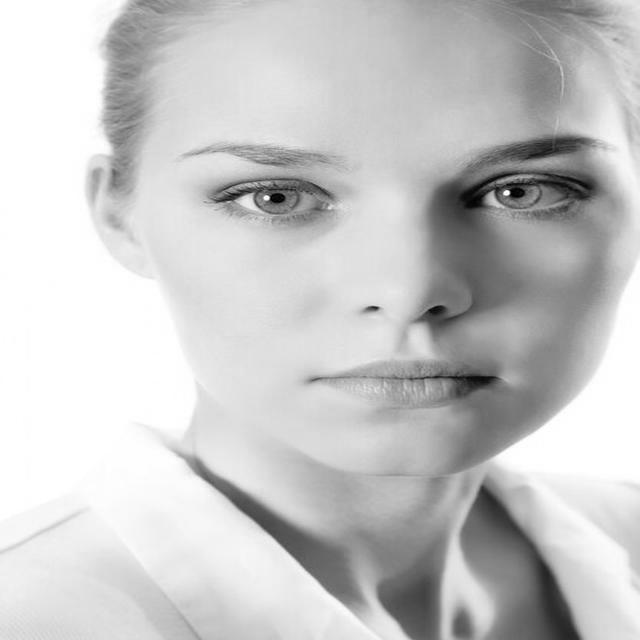Neutral: (140, 2, 640, 476)
